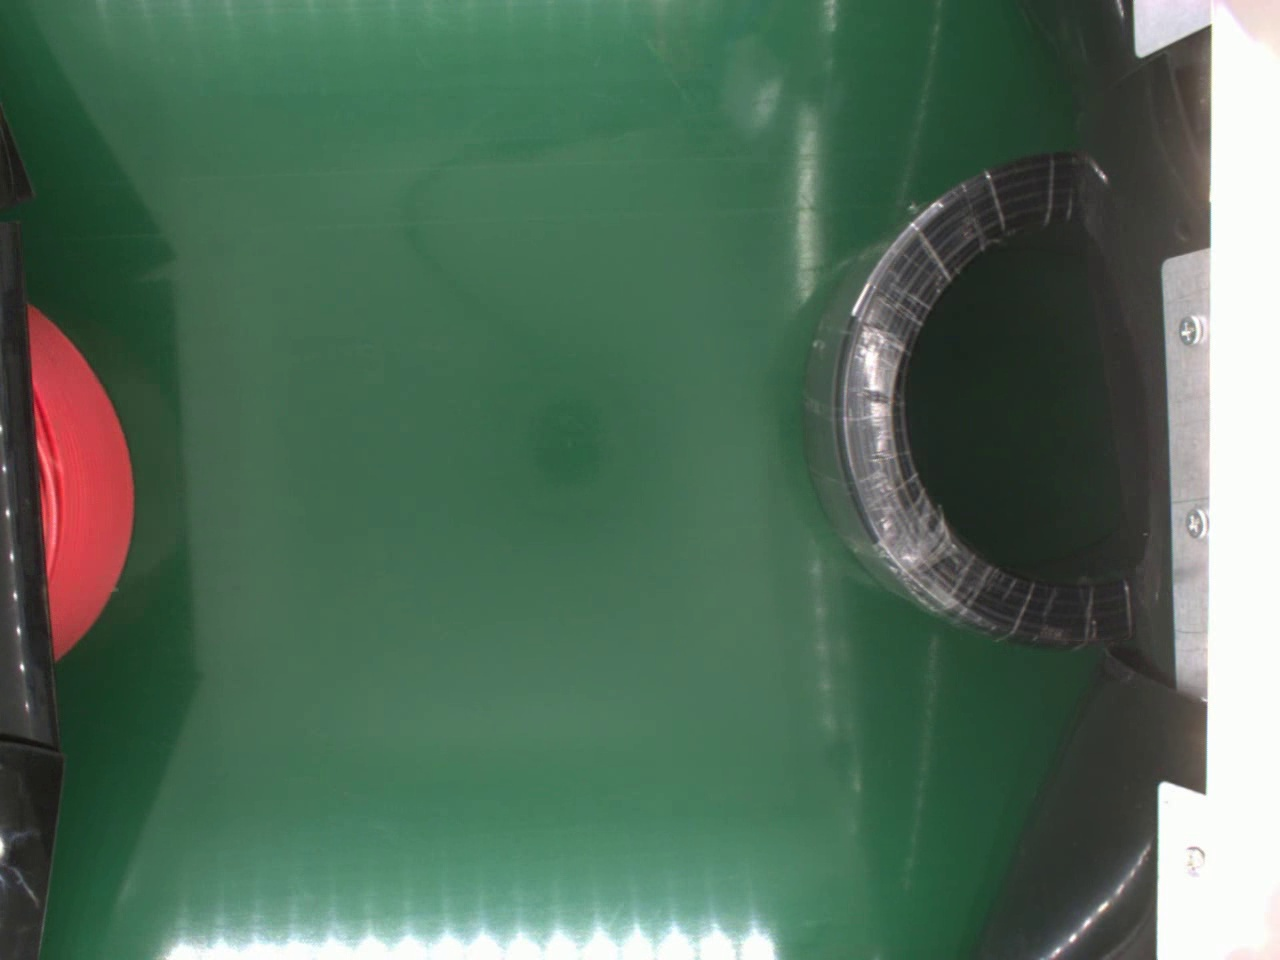black: (798, 151, 1141, 649)
